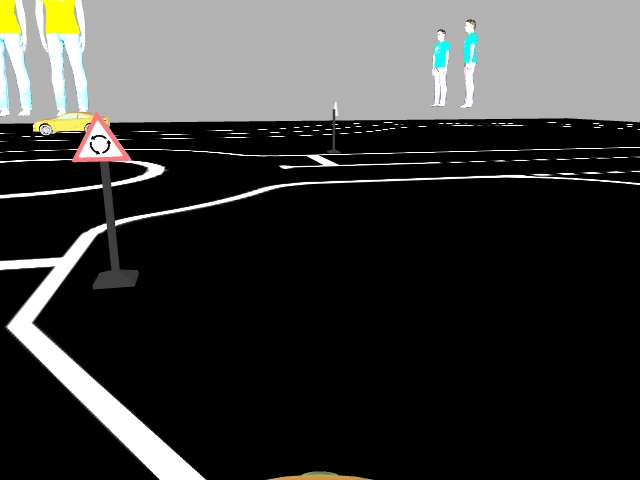Roundabout: (68, 112, 131, 161)
